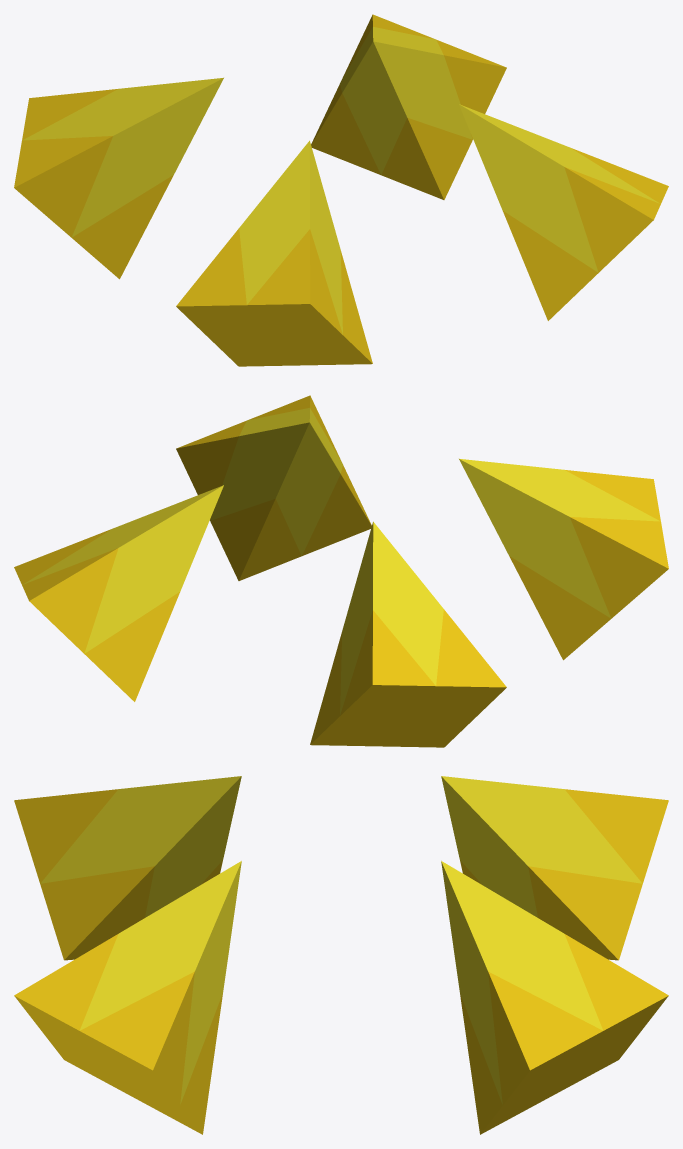
File: piernas-piramidePlayer.glb
The picture shows the model from 3 angles, top to bottom: view 1: azimuth 30°, elevation 25°; view 2: azimuth 150°, elevation 25°; view 3: azimuth 270°, elevation 25°; orthographic projection. The views are drawn at different scales.
Visible parts, largest first — view 1: Cone; view 2: Cone; view 3: Cone.
Part boxes in pixels (left/top/right/bottom): Cone: left=14, top=14, right=668, bottom=366; Cone: left=14, top=395, right=668, bottom=747; Cone: left=14, top=776, right=668, bottom=1134.
Size of the model in its own units: 4.51 by 1.69 by 4.46.
